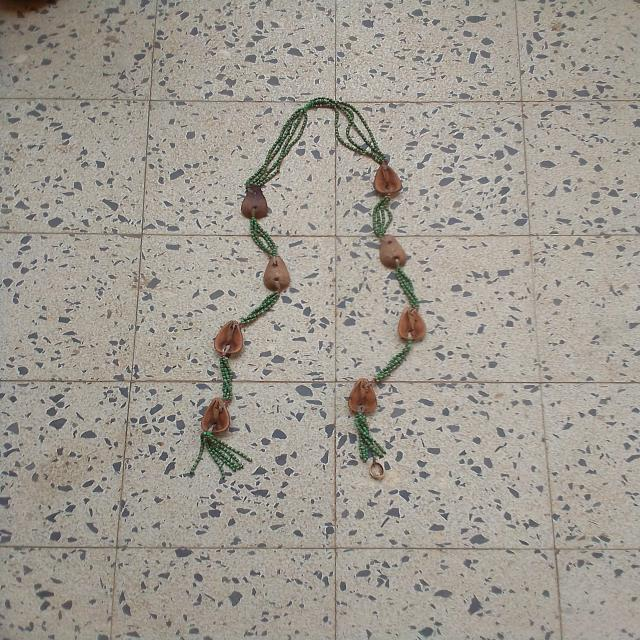facedown: (374, 231, 413, 275), (237, 185, 275, 222), (263, 250, 293, 292)
faceup: (344, 379, 385, 421), (394, 305, 432, 349), (212, 321, 248, 362), (200, 395, 236, 436), (372, 159, 407, 198)
